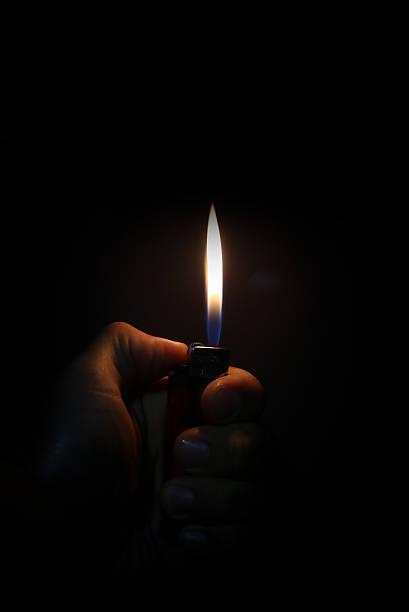Fire: (193, 203, 231, 345)
